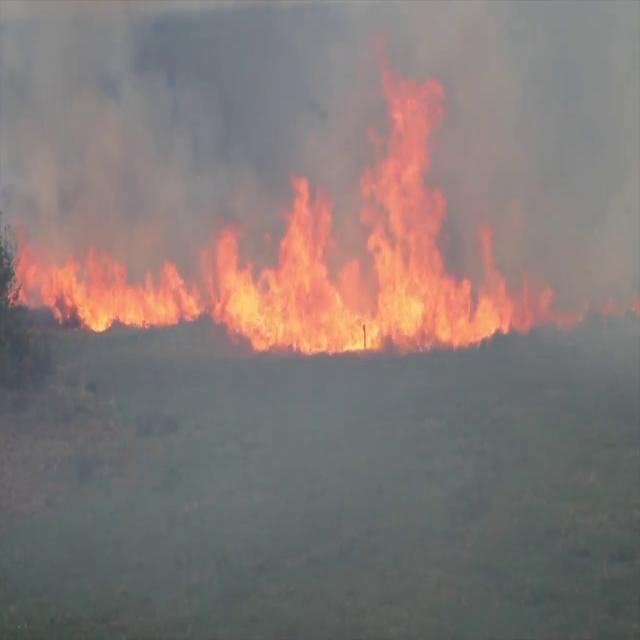Fire: (6, 59, 582, 358)
